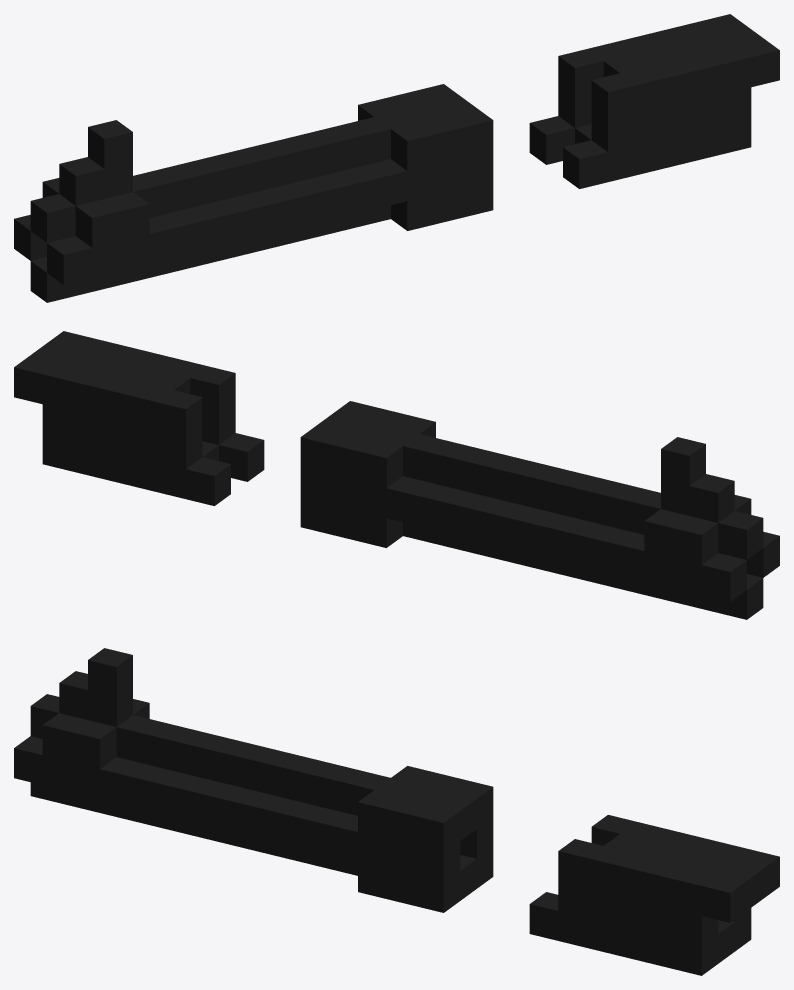
File: Barrel.fbx
3 renders of one model, top to bottom at view 1: azimuth 30°, elevation 25°; view 2: azimuth 150°, elevation 25°; view 3: azimuth 330°, elevation 25°, orthographic.
Parts seen in each view (by area): view 1: Barrel.001; view 2: Barrel.001; view 3: Barrel.001.
Boxes of the visible parts, box(x1,y1,x2,y2) form: Barrel.001: box(14, 14, 779, 302); Barrel.001: box(14, 331, 779, 619); Barrel.001: box(14, 648, 779, 975).
Bounding box in the file's own units: 0.0367 × 0.00735 × 0.00441.
Materials: 1 (1 with a texture image).
